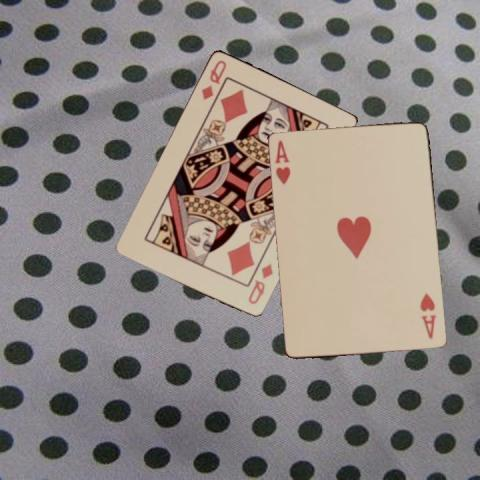Ah: (417, 290, 438, 341), (272, 137, 293, 186)
Qd: (244, 260, 274, 306), (198, 56, 228, 101)
